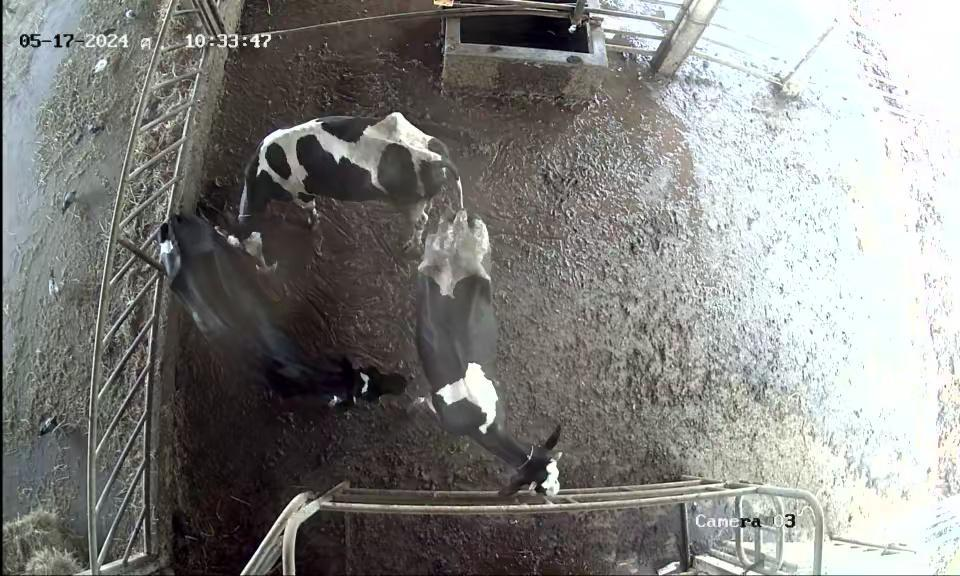stand: (153, 215, 409, 423), (404, 203, 582, 498), (218, 98, 472, 266)
